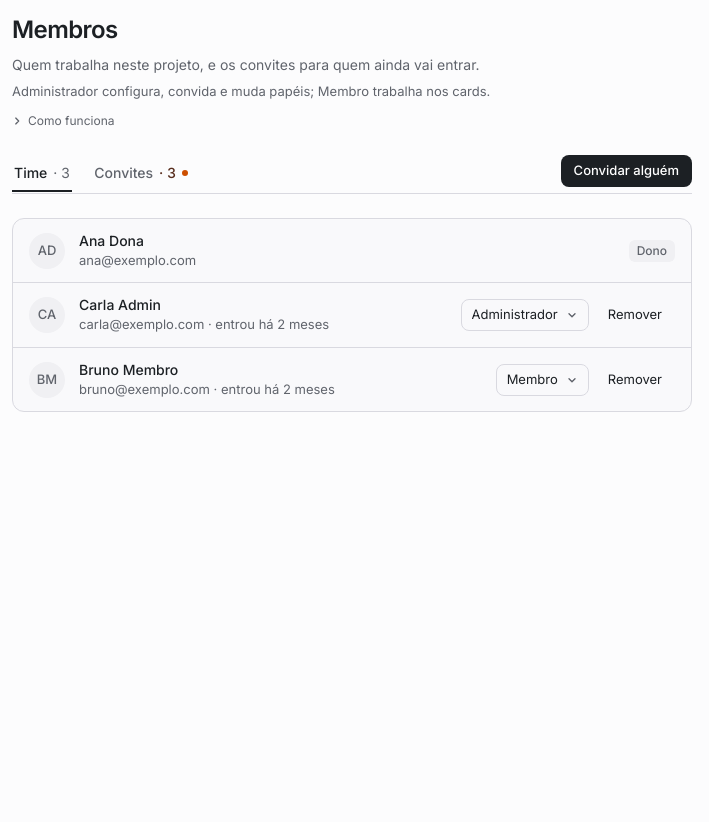
Test: MembersScreen › a recusa da API ao convidar aparece no campo
Step 1. Click the tab "Convites · 3" → (141, 174), box [92, 156, 190, 192]
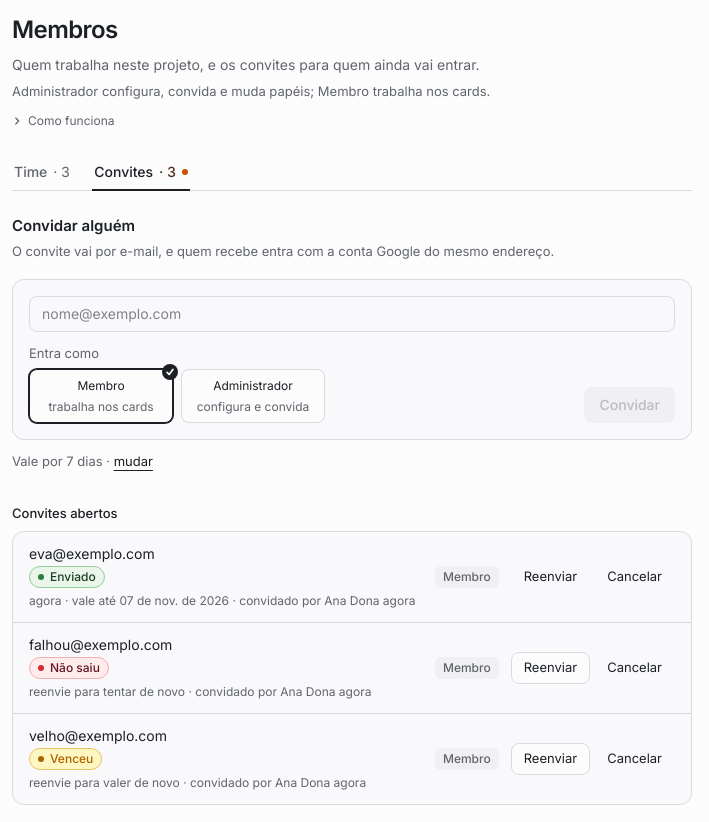
Step 2. Type "nova@exemplo.com" into the field named "E-mail de quem vai entrar" → (352, 314), box [29, 296, 675, 332]
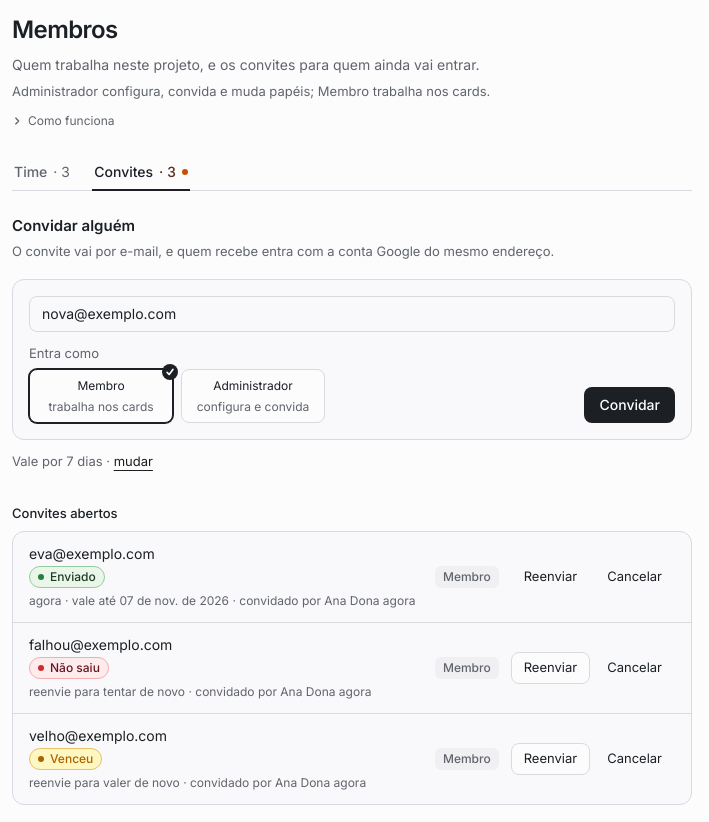
Step 3. Click the button "Convidar" → (630, 405), box [584, 387, 675, 423]
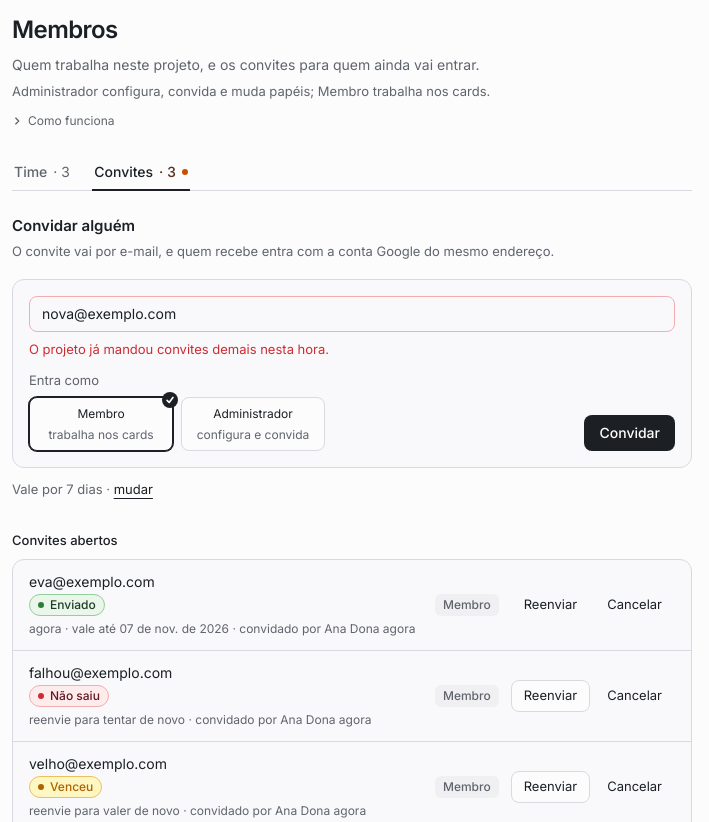
Check: the text "O projeto já mandou convites demais nesta hora." is shown, box [29, 340, 329, 356]
